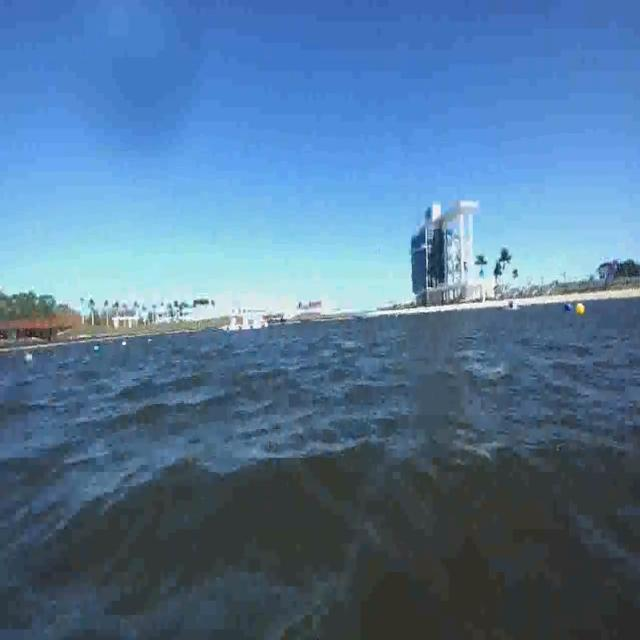yellow-buoy: (575, 300, 585, 316)
